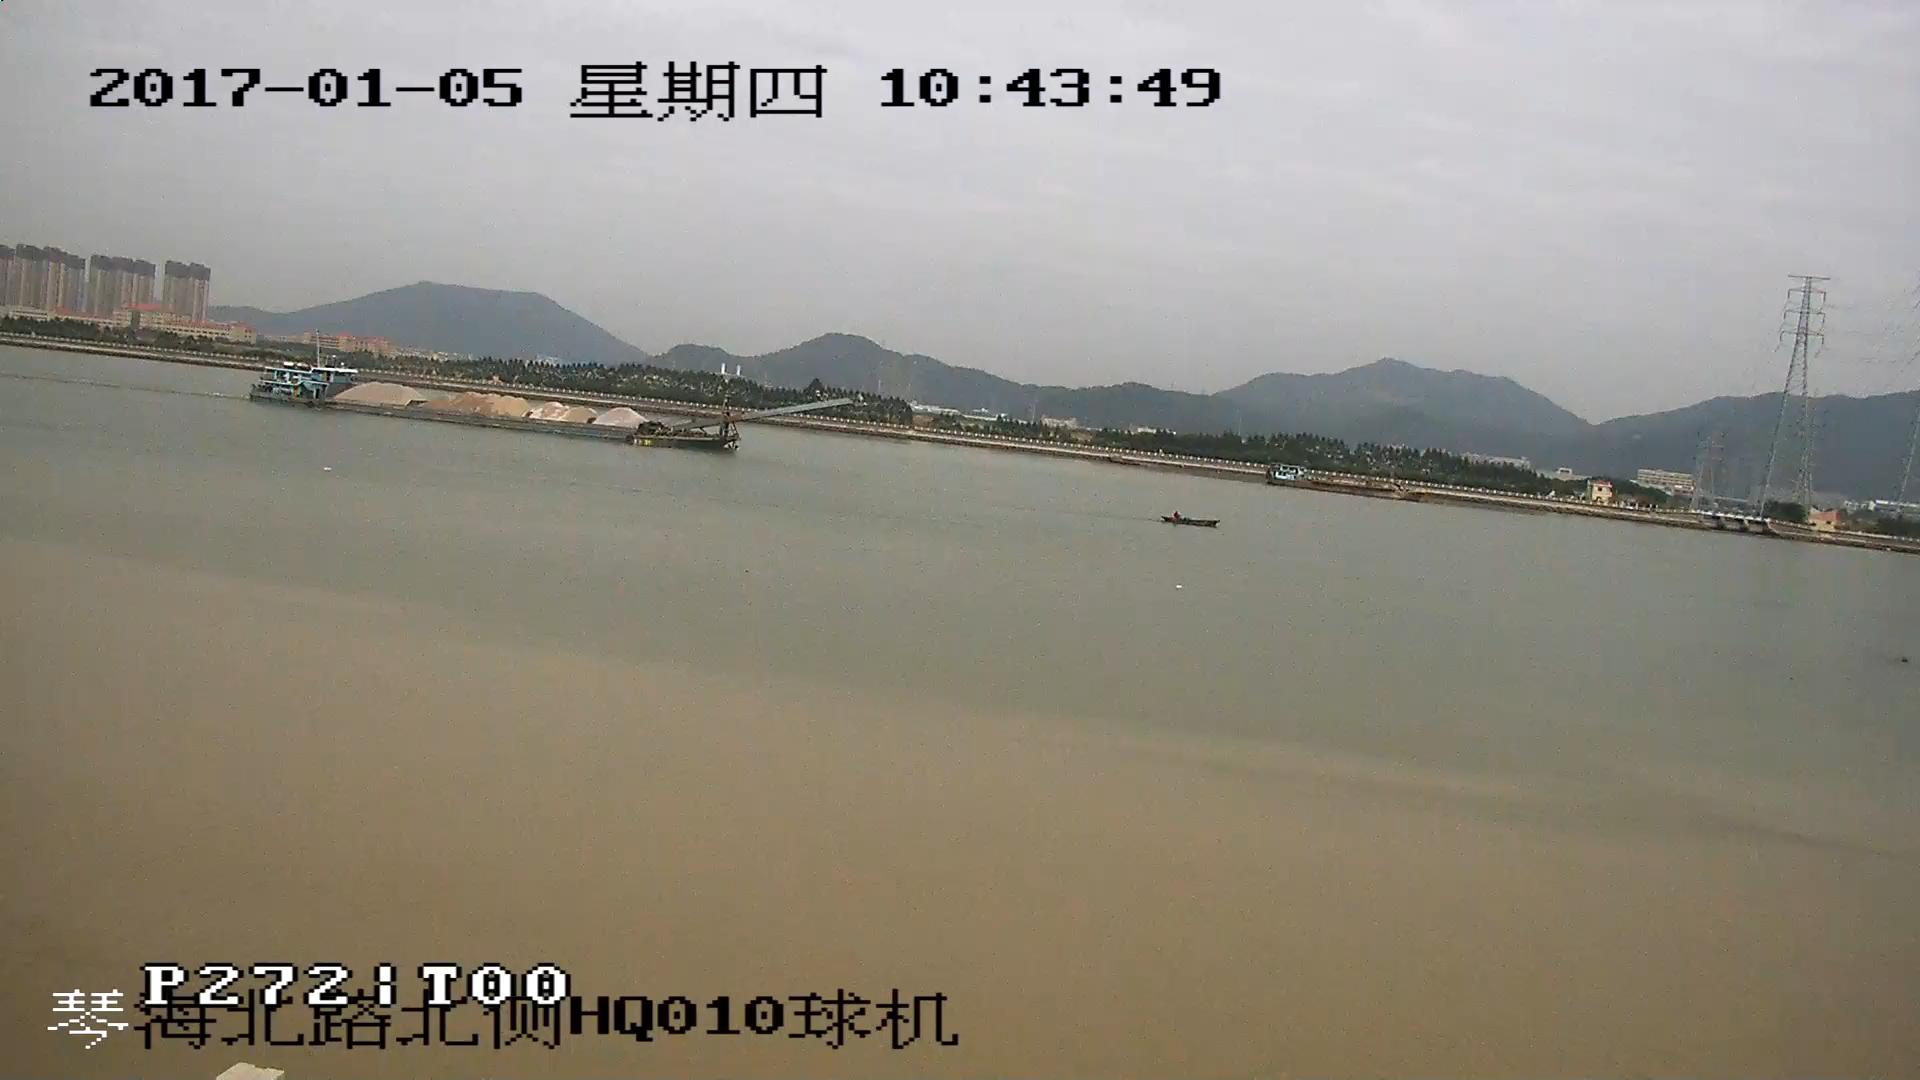fishing boat: (1158, 509, 1219, 531)
ore carrier: (253, 368, 858, 448)
